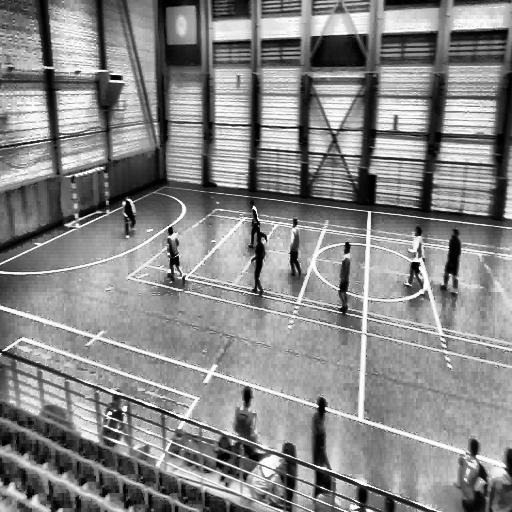ball: (167, 267, 172, 279)
player: (100, 387, 140, 454), (455, 438, 490, 510), (311, 396, 333, 490), (234, 386, 258, 456), (439, 227, 461, 295), (404, 226, 426, 292), (166, 226, 186, 284), (250, 230, 268, 294), (247, 199, 268, 250), (336, 241, 350, 315), (289, 218, 301, 278), (122, 192, 136, 236)
